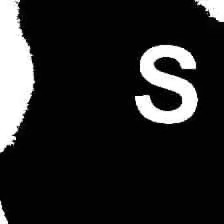LTR_S: (134, 43, 198, 122)
